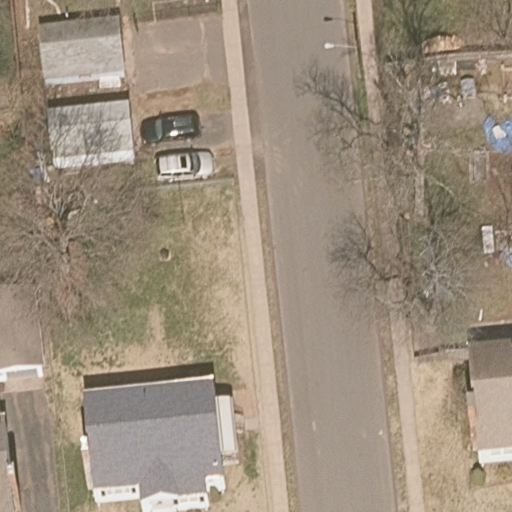DT: (323, 38, 366, 79)
